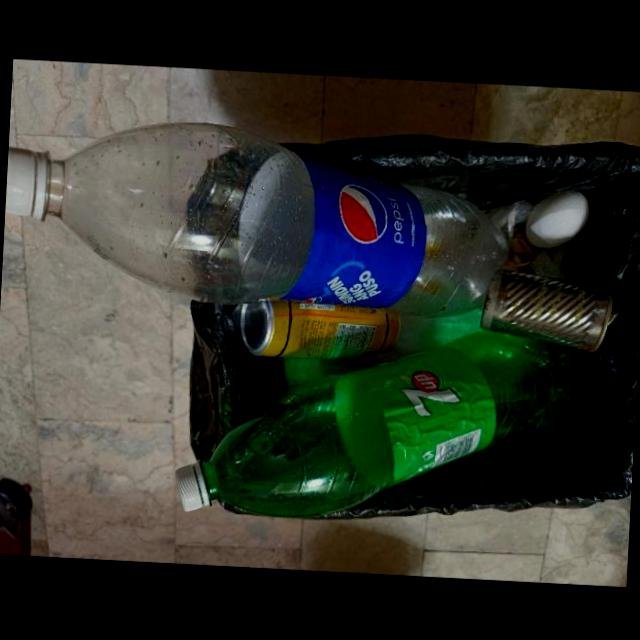chai_nhua: (174, 329, 586, 518)
chai_nhua_pet: (5, 122, 503, 316)
nhom: (480, 268, 615, 352), (241, 300, 401, 359)
vo_trung: (525, 190, 590, 249)
